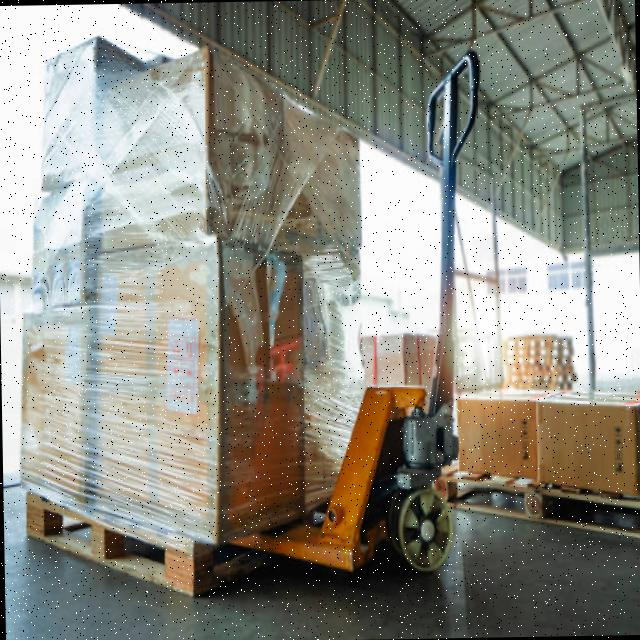Wooden-Pallets: (15, 489, 270, 594), (456, 474, 640, 540)
